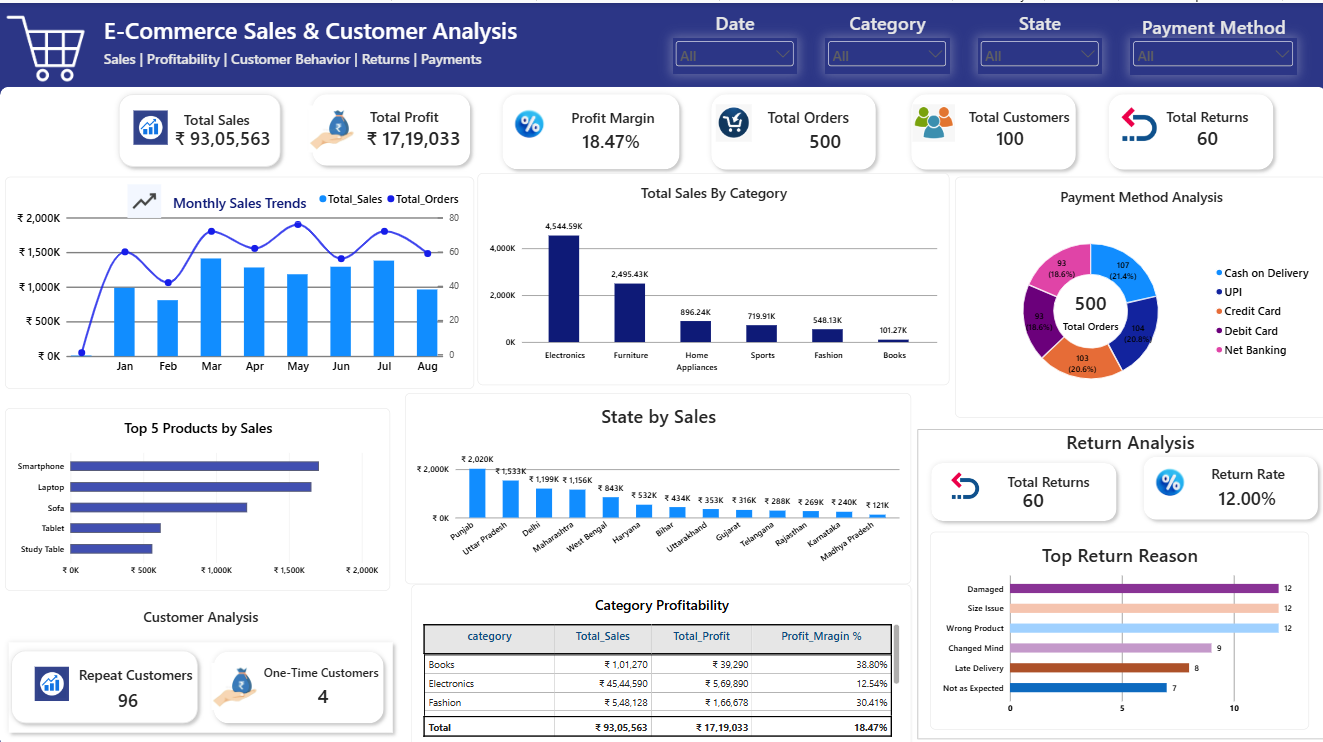

Layout of this report page (visuals, bound fields, positions):
{"tool":"powerbi","page":{"name":"Page 1","canvas":[1920,1080],"ordinal":0},"visuals":[{"type":"image","box":[0,0,131.6,131.6],"z":0},{"type":"cardVisual","fields":{"Data":["orders.Profit_Mragin %"]},"box":[826.9,168.8,147.4,55.6],"z":0,"group":"g12"},{"type":"cardVisual","fields":{"Data":["orders.Profit_Mragin %"]},"box":[1753.4,686.7,145.2,47.9],"z":0,"group":"g13"},{"type":"shape","box":[0,121.6,1920.4,958.4],"z":1000},{"type":"shape","box":[718.7,123,274.3,126.7],"z":1000,"group":"g12"},{"type":"shape","box":[1646.8,647.3,270.2,109.1],"z":1000,"group":"g13"},{"type":"textbox","title":"E-Commerce Sales & Customer Analysis","box":[150.1,16.7,613.6,50],"z":2000},{"type":"shape","title":"Profit Margin","box":[826.9,151.5,149.3,38.4],"z":2000,"group":"g12"},{"type":"shape","title":"Return Rate","box":[1754,667.7,123.4,32.2],"z":2000,"group":"g13"},{"type":"group","id":"g1","title":"Group 1","box":[442.7,123,247.6,121],"z":3000},{"type":"image","box":[735.8,132.6,62.9,86.4],"z":3000,"group":"g12"},{"type":"image","box":[1663.7,655.6,61.9,74.4],"z":3000,"group":"g13"},{"type":"textbox","box":[150.1,66.7,635.8,40.8],"z":4000},{"type":"shape","box":[162.9,123,252,122.9],"z":5000,"group":"g7"},{"type":"group","id":"g2","title":"Group 2","box":[162.9,123,251.4,122.9],"z":5000},{"type":"shape","box":[7.2,928,287.9,123.4],"z":5000,"group":"g9"},{"type":"textbox","title":"Sales | Profitability | Customer Behavior | Returns | Payments ","box":[150.1,66.7,556.1,40.8],"z":6000},{"type":"cardVisual","fields":{"Data":["orders.Total_Sales"]},"box":[237.7,165.8,177.2,55.2],"z":6000,"group":"g7"},{"type":"cardVisual","fields":{"Data":["orders.Repeat Customer"]},"box":[98.3,988.8,175.2,37.5],"z":6000,"group":"g9"},{"type":"group","id":"g3","title":"Group 1","box":[1021.2,123,260.2,127.2],"z":7000},{"type":"shape","title":"Total Sales","box":[265.3,154.8,121.8,31.8],"z":7000,"group":"g7"},{"type":"shape","title":"Repeat Customers","box":[114.4,958.4,193.1,25],"z":7000,"group":"g9"},{"type":"group","id":"g4","title":"Group 4","box":[1595.3,123,256.3,127.2],"z":7001,"group":"g11"},{"type":"group","id":"g5","title":"Group 4","box":[1339.2,656.2,286.1,101.9],"z":7001,"group":"g17"},{"type":"group","id":"g6","title":"Group 1","box":[1309.8,123,257.1,126.6],"z":8000},{"type":"image","box":[190.6,156.1,55.4,49.7],"z":8000,"group":"g7"},{"type":"image","box":[46.2,961.2,55.4,49.7],"z":8000,"group":"g9"},{"type":"group","id":"g7","title":"Group 6","box":[162.9,123,251.4,122.9],"z":8002,"group":"g2"},{"type":"group","id":"g8","title":"Group 5","box":[442.7,123,246.4,121.5],"z":8002,"group":"g1"},{"type":"group","id":"g9","title":"Group 6","box":[7.2,928,300.3,123.4],"z":8002,"group":"g15"},{"type":"group","id":"g10","title":"Group 5","box":[300.4,929.8,264.1,121.5],"z":8002,"group":"g16"},{"type":"shape","box":[442.9,123,246.2,121.5],"z":9000,"group":"g8"},{"type":"shape","box":[1021.2,123,256.3,127.2],"z":9000,"group":"g3"},{"type":"shape","box":[1309.8,123,256.3,127.2],"z":9000,"group":"g6"},{"type":"group","id":"g11","title":"Group 1","box":[1595.3,123,256.3,127.2],"z":9000},{"type":"shape","box":[1595.3,123,256.3,127.2],"z":9000,"group":"g4"},{"type":"shape","box":[1339.2,656.2,286.1,101.9],"z":9000,"group":"g5"},{"type":"shape","box":[300.6,929.8,263.9,121.5],"z":9000,"group":"g10"},{"type":"group","id":"g12","title":"Group 3","box":[718.7,123,274.1,126.6],"z":10000,"group":"g14"},{"type":"cardVisual","title":"Total Profit","fields":{"Data":["orders.Total_Profit"]},"box":[509.4,174.3,177.3,40.5],"z":10000,"group":"g8"},{"type":"cardVisual","title":"Total Profit","fields":{"Data":["customer.Total_Customers"]},"box":[1374.6,174.4,174.2,41.4],"z":10000,"group":"g6"},{"type":"cardVisual","title":"Total Profit","fields":{"Data":["returns.Total_Returns"]},"box":[1660.1,174.4,174.2,41.4],"z":10000,"group":"g4"},{"type":"cardVisual","title":"Total Profit","fields":{"Data":["orders.Total_Orders"]},"box":[1107.2,176.4,174.2,41.4],"z":10000,"group":"g3"},{"type":"lineClusteredColumnComboChart","fields":{"Category":["orders.MonthName"],"Y":["orders.Total_Sales"],"Y2":["orders.Total_Orders"]},"box":[7.2,252.1,679.5,307.5],"z":10000},{"type":"group","id":"g13","title":"Group 3","box":[1646.8,647.3,270.2,109.1],"z":10000,"group":"g18"},{"type":"cardVisual","title":"Total Profit","fields":{"Data":["returns.Total_Returns"]},"box":[1399.2,702.1,194.5,33.2],"z":10000,"group":"g5"},{"type":"cardVisual","title":"Total Profit","fields":{"Data":["orders.One Time Customer"]},"box":[371.9,981.1,190.1,40.5],"z":10000,"group":"g10"},{"type":"group","id":"g14","title":"Group 7","box":[718.7,123,274.1,126.6],"z":11000},{"type":"shape","title":"Total Customers","box":[1401.2,149.5,154.3,32.1],"z":11000,"group":"g6"},{"type":"shape","title":"Total Orders","box":[1112.5,149.9,121.9,30.3],"z":11000,"group":"g3"},{"type":"shape","title":"Total Returns","box":[1686.9,150,135.3,32.1],"z":11000,"group":"g4"},{"type":"shape","title":"Total Profit","box":[535.8,150.5,102.6,30.7],"z":11000,"group":"g8"},{"type":"cardVisual","fields":{"Data":["orders.Profit_Mragin %"]},"box":[827.6,170,138,56.7],"z":11000,"group":"g14"},{"type":"shape","title":"Total Returns","box":[1459.5,677.1,123.4,23.1],"z":11000,"group":"g5"},{"type":"cardVisual","fields":{"Data":["returns.Return_Rate%"]},"box":[1748.1,693.4,119.8,44.7],"z":11000,"group":"g18"},{"type":"shape","title":"One-Time Customers","box":[381.2,956.6,168.1,32.2],"z":11000,"group":"g10"},{"type":"image","box":[1031.3,147.3,61.9,54.3],"z":12000,"group":"g3"},{"type":"image","box":[1319.9,147.3,61.9,54.3],"z":12000,"group":"g6"},{"type":"image","box":[442.7,148,74.3,68.1],"z":12000,"group":"g8"},{"type":"image","box":[1616.4,150,61.9,54.3],"z":12000,"group":"g4"},{"type":"shape","title":"Monthly Sales Trends","box":[209.4,276,274,43.1],"z":12000},{"type":"image","box":[1362.7,677.9,69.1,43.5],"z":12000,"group":"g5"},{"type":"image","box":[300.4,954.8,79.6,68.1],"z":12000,"group":"g10"},{"type":"image","box":[178.1,262.3,62.6,48.9],"z":13000},{"type":"clusteredColumnChart","title":"Total Sales By Category","fields":{"Category":["products.category"],"Y":["orders.Total_Sales"]},"box":[692,246.7,683,307.5],"z":14000},{"type":"clusteredBarChart","title":"Top 5 Products by Sales","fields":{"Category":["products.product_name"],"Y":["orders.Total_Sales"]},"box":[7.2,586.5,557.9,264.6],"z":15000},{"type":"columnChart","title":"State by Sales","fields":{"Category":["customer.state"],"Y":["orders.Total_Sales"]},"box":[586.5,565,733.1,277.1],"z":16000},{"type":"donutChart","title":"Payment Method Analysis","fields":{"Category":["payments.payment_method"],"Y":["CountNonNull(payments.payment_method)"]},"box":[1382.2,252.1,538.2,348.7],"z":17000},{"type":"shape","title":"Customer Analysis","box":[3.6,874.4,574,191.3],"z":18000},{"type":"group","id":"g15","title":"Group 2","box":[7.2,928,300.4,123.4],"z":19000},{"type":"group","id":"g16","title":"Group 1","box":[300.4,929.8,264.6,121.6],"z":20000},{"type":"shape","box":[1328.5,616.9,591.8,448.8],"z":21000},{"type":"shape","title":"Return Analysis","box":[1401.8,616.9,468.5,37.5],"z":22000},{"type":"group","id":"g17","title":"Group 1","box":[1339.2,656.2,286.1,101.9],"z":23000},{"type":"group","id":"g18","title":"Group 7","box":[1646.8,647.3,270,109.1],"z":24000},{"type":"clusteredBarChart","title":"Top Return Reason","fields":{"Category":["returns.return_reason"],"Y":["CountNonNull(returns.return_id)"]},"box":[1346.4,765.3,548.9,286.1],"z":25000},{"type":"tableEx","title":"Category Profitability","fields":{"Values":["products.category","orders.Total_Sales","orders.Total_Profit","orders.Profit_Mragin %"]},"box":[595.4,842.2,724.2,237.8],"z":26000},{"type":"shape","title":"Date","box":[1002.3,11.3,123.4,50.1],"z":27000,"group":"g22"},{"type":"shape","title":"Category","box":[1223.2,11.3,123.4,50.1],"z":27000,"group":"g19"},{"type":"shape","title":"State","box":[1444.1,11.3,123.4,50.1],"z":27000,"group":"g20"},{"type":"shape","title":"Payment Method","box":[1646.5,15.8,221.7,34],"z":27000,"group":"g21"},{"type":"slicer","fields":{"Values":["orders.order_date"]},"box":[973.7,50.6,180.6,51.9],"z":28000,"group":"g22"},{"type":"slicer","fields":{"Values":["products.category"]},"box":[1194.6,50.6,180.6,51.9],"z":28000,"group":"g19"},{"type":"slicer","fields":{"Values":["customer.state"]},"box":[1415.5,50.6,180.6,51.9],"z":28000,"group":"g20"},{"type":"slicer","fields":{"Values":["customer.state"]},"box":[1636.4,50.9,241.4,53.7],"z":28000,"group":"g21"},{"type":"group","id":"g19","title":"Group 8","box":[1194.6,11.3,180.3,92.4],"z":28001},{"type":"group","id":"g20","title":"Group 8","box":[1415.5,11.3,180.3,92.4],"z":28002},{"type":"group","id":"g21","title":"Group 8","box":[1636.4,15.8,241.2,87.9],"z":28003},{"type":"group","id":"g22","title":"Group 8","box":[973.7,11.3,180.3,92.4],"z":28004}]}

Visuals, with their boxes in screenshot pixels (x1, y1, x2, y2), scaled from the page's 1920x1080 canvas onto the 1323x742 screenshot:
image: 0:0:91:90
cardVisual - orders.Profit_Mragin %: 570:116:671:154
cardVisual - orders.Profit_Mragin %: 1208:472:1308:505
shape: 0:84:1322:741
shape: 495:85:684:172
shape: 1135:445:1321:520
"E-Commerce Sales & Customer Analysis" textbox: 103:11:526:46
"Profit Margin" shape: 570:104:673:130
"Return Rate" shape: 1209:459:1294:481
"Group 1" group: 305:85:476:168
image: 507:91:550:150
image: 1146:450:1189:502
textbox: 103:46:542:74
shape: 112:85:286:169
"Group 2" group: 112:85:285:169
shape: 5:638:203:722
"Sales | Profitability | Customer Behavior | Returns | Payments " textbox: 103:46:487:74
cardVisual - orders.Total_Sales: 164:114:286:152
cardVisual - orders.Repeat Customer: 68:679:188:705
"Group 1" group: 704:85:883:172
"Total Sales" shape: 183:106:267:128
"Repeat Customers" shape: 79:658:212:676
"Group 4" group: 1099:85:1276:172
"Group 4" group: 923:451:1120:521
"Group 1" group: 903:85:1080:171
image: 131:107:170:141
image: 32:660:70:695
"Group 6" group: 112:85:285:169
"Group 5" group: 305:85:475:168
"Group 6" group: 5:638:212:722
"Group 5" group: 207:639:389:722
shape: 305:85:475:168
shape: 704:85:880:172
shape: 903:85:1079:172
"Group 1" group: 1099:85:1276:172
shape: 1099:85:1276:172
shape: 923:451:1120:521
shape: 207:639:389:722
"Group 3" group: 495:85:684:171
"Total Profit" cardVisual: 351:120:473:148
"Total Profit" cardVisual: 947:120:1067:148
"Total Profit" cardVisual: 1144:120:1264:148
"Total Profit" cardVisual: 763:121:883:150
lineClusteredColumnComboChart - orders.MonthName x orders.Total_Sales: 5:173:473:384
"Group 3" group: 1135:445:1321:520
"Total Profit" cardVisual: 964:482:1098:505
"Total Profit" cardVisual: 256:674:387:702
"Group 7" group: 495:85:684:171
"Total Customers" shape: 966:103:1072:125
"Total Orders" shape: 767:103:851:124
"Total Returns" shape: 1162:103:1256:125
"Total Profit" shape: 369:103:440:124
cardVisual - orders.Profit_Mragin %: 570:117:665:156
"Total Returns" shape: 1006:465:1091:481
cardVisual - returns.Return_Rate%: 1205:476:1287:507
"One-Time Customers" shape: 263:657:379:679
image: 711:101:753:139
image: 909:101:952:139
image: 305:102:356:148
image: 1114:103:1156:140
"Monthly Sales Trends" shape: 144:190:333:219
image: 939:466:987:496
image: 207:656:262:703
image: 123:180:166:214
"Total Sales By Category" clusteredColumnChart: 477:169:947:381
"Top 5 Products by Sales" clusteredBarChart: 5:403:389:585
"State by Sales" columnChart: 404:388:909:579
"Payment Method Analysis" donutChart: 952:173:1322:413
"Customer Analysis" shape: 2:601:398:732
"Group 2" group: 5:638:212:722
"Group 1" group: 207:639:389:722
shape: 915:424:1322:732
"Return Analysis" shape: 966:424:1289:450
"Group 1" group: 923:451:1120:521
"Group 7" group: 1135:445:1321:520
"Top Return Reason" clusteredBarChart: 928:526:1306:722
"Category Profitability" tableEx: 410:579:909:741
"Date" shape: 691:8:776:42
"Category" shape: 843:8:928:42
"State" shape: 995:8:1080:42
"Payment Method" shape: 1135:11:1287:34
slicer - orders.order_date: 671:35:795:70
slicer - products.category: 823:35:948:70
slicer - customer.state: 975:35:1100:70
slicer - customer.state: 1128:35:1294:72
"Group 8" group: 823:8:947:71
"Group 8" group: 975:8:1100:71
"Group 8" group: 1128:11:1294:71
"Group 8" group: 671:8:795:71
